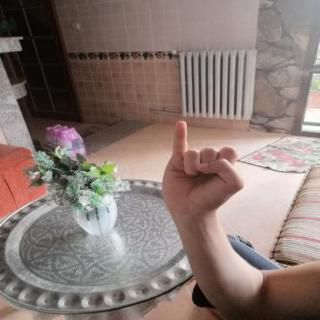MEEM: (150, 114, 255, 223)
